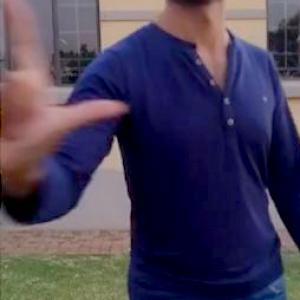land_hand: (0, 0, 133, 191)
